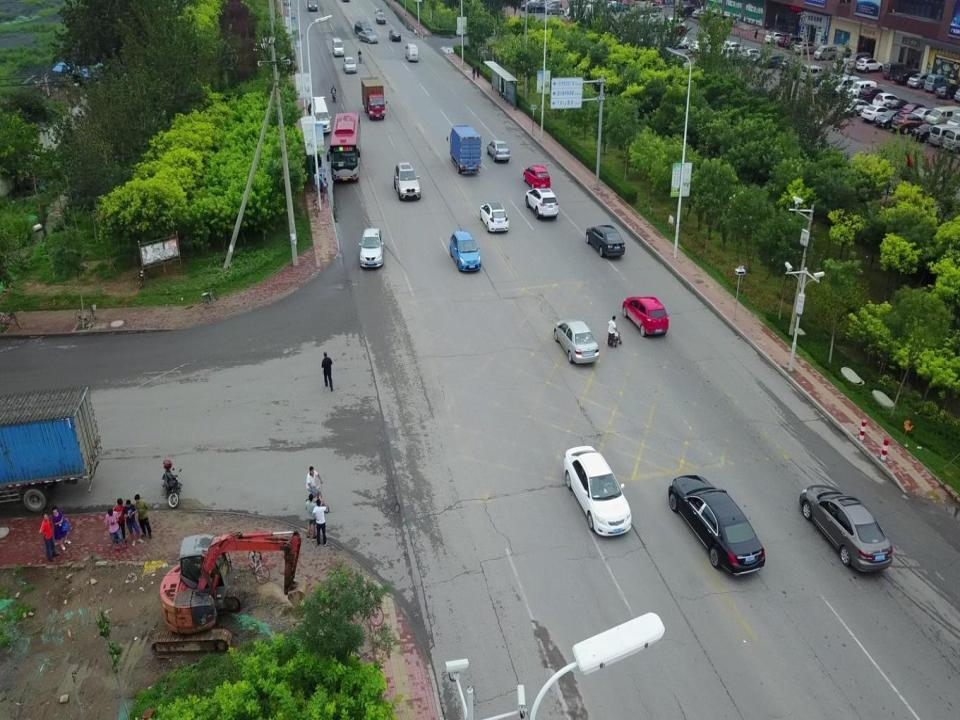bus: (326, 109, 362, 184)
car: (666, 471, 766, 578), (799, 480, 894, 572), (563, 444, 633, 538), (553, 316, 600, 365), (621, 295, 669, 337), (584, 224, 627, 260), (449, 227, 481, 272), (524, 185, 559, 222), (358, 224, 385, 268), (392, 161, 420, 201), (480, 200, 508, 234), (303, 481, 329, 512), (522, 165, 552, 189), (486, 138, 512, 162), (358, 29, 380, 44), (340, 56, 357, 74), (354, 21, 372, 33), (389, 28, 402, 42), (306, 0, 319, 12)
truck: (374, 5, 387, 24)
van: (447, 120, 483, 177), (359, 78, 389, 122), (311, 94, 329, 135), (403, 42, 420, 62), (330, 36, 344, 56)
